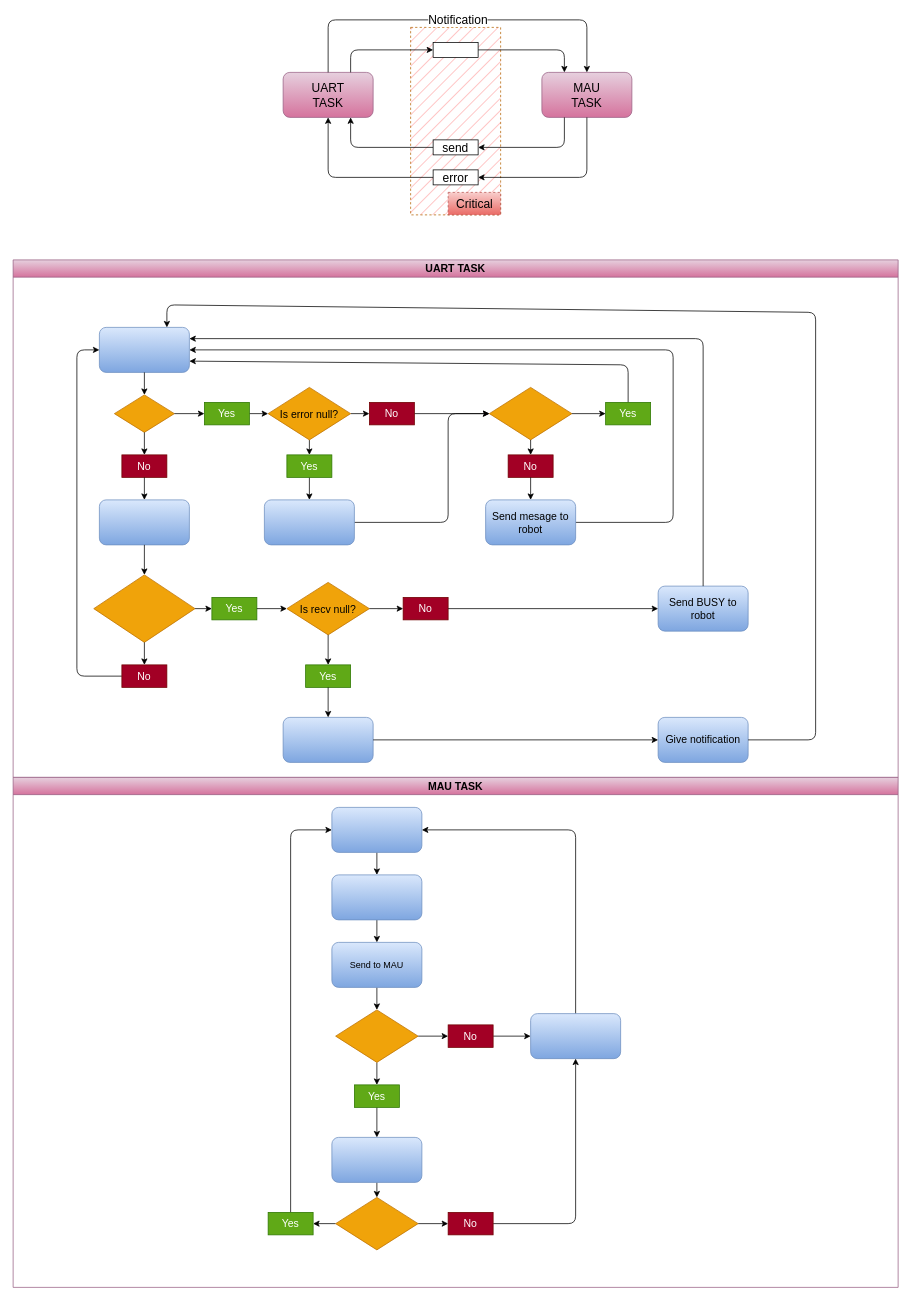
This 911x1301 diagram has some shape labels left out. The box of each missing label's shape, as (x1, y1, x2, y2) in pixels:
Expected result?: (335, 1197, 418, 1250)
Forward to MAU TASK?: (93, 574, 195, 642)
Is send null?: (489, 387, 572, 440)
Process message: (99, 499, 189, 545)
Read recv: (331, 874, 422, 920)
recv: (432, 42, 478, 57)
Send error: (530, 1013, 621, 1059)
Send error to robot: (264, 499, 354, 545)
Success?: (335, 1009, 418, 1062)
Take notificaiton: (331, 807, 422, 852)
Timeout?: (114, 394, 174, 432)
Wait for incoming message: (99, 327, 189, 372)
Wait for MAU reply: (331, 1137, 422, 1182)
Write message to recv: (282, 717, 373, 762)
